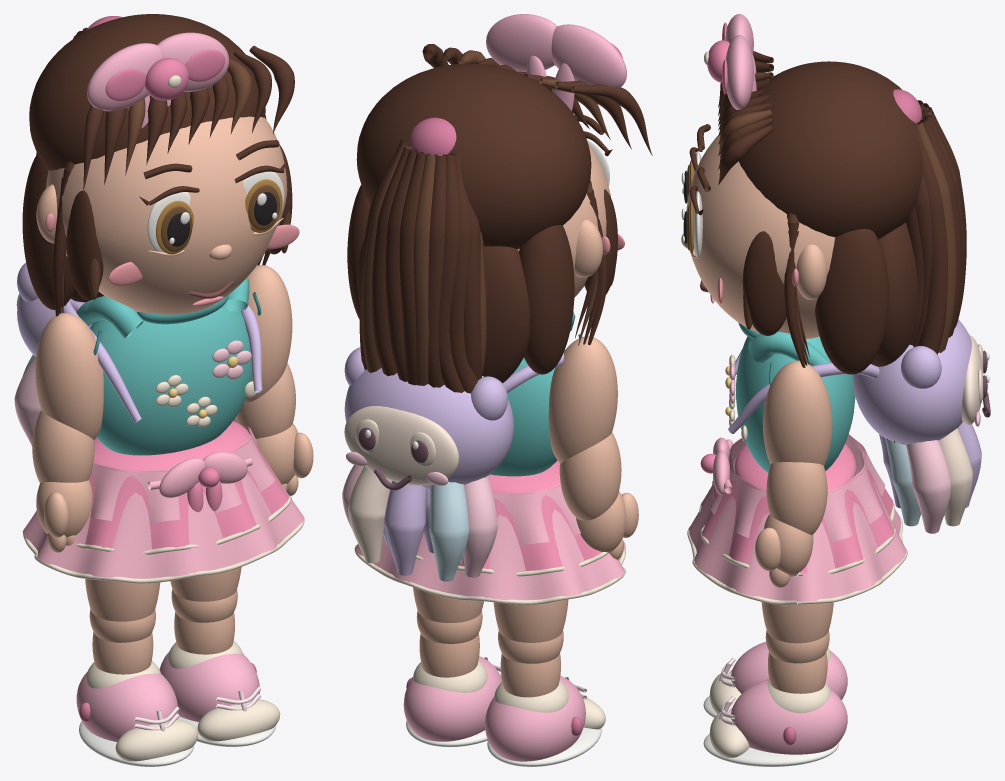
The model's file is hanna-v3.glb.
3 views of the same model, side by side, from view 1: azimuth 30°, elevation 25°; view 2: azimuth 150°, elevation 25°; view 3: azimuth 270°, elevation 25° (orthographic). The views are drawn at different scales.
Visible parts, largest first — view 1: face-sculpt, teal-cotton-tank, crown-back, skirt-layer-under, bare-shoulder-arm--1, skirt-layer-middle, high-top-sneaker-upper--1, high-top-sneaker-upper-1, skirt-layer-top, bare-shoulder-arm-1, bare-forearm--1, hair-left-volume (+55 smaller); view 2: crown-back, skirt-layer-under, plush-octopus-head, bare-shoulder-arm--1, hair-left-volume, hair-back-length, plush-ivory-face, high-top-sneaker-upper--1, high-top-sneaker-upper-1, teal-cotton-tank, bare-forearm--1, signature-pink-hair-bow--1 (+43 smaller); view 3: crown-back, face-sculpt, skirt-layer-under, hair-right-volume, plush-octopus-head, bare-shoulder-arm-1, high-top-sneaker-upper-1, teal-cotton-tank, skirt-layer-middle, hair-back-length, skirt-layer-top, bare-forearm-1 (+38 smaller).
Part boxes in pixels (box(x1,y1,x2,y2)): face-sculpt: box(45, 116, 287, 314); teal-cotton-tank: box(90, 304, 252, 455); crown-back: box(29, 14, 265, 170); skirt-layer-under: box(22, 417, 304, 578); bare-shoulder-arm--1: box(35, 313, 103, 439); skirt-layer-middle: box(85, 426, 288, 549); high-top-sneaker-upper--1: box(76, 672, 178, 741); high-top-sneaker-upper-1: box(159, 652, 259, 721); skirt-layer-top: box(91, 426, 275, 522); bare-shoulder-arm-1: box(244, 265, 292, 403); bare-forearm--1: box(32, 410, 94, 482); hair-left-volume: box(22, 154, 75, 309); crown-back: box(356, 63, 591, 249); skirt-layer-under: box(355, 484, 625, 600); plush-octopus-head: box(344, 368, 513, 490); bare-shoulder-arm--1: box(548, 336, 617, 463); hair-left-volume: box(519, 225, 574, 374); hair-back-length: box(357, 239, 529, 383); plush-ivory-face: box(344, 406, 458, 485); high-top-sneaker-upper--1: box(485, 676, 585, 761); high-top-sneaker-upper-1: box(403, 656, 501, 741); teal-cotton-tank: box(490, 349, 565, 476); bare-forearm--1: box(559, 432, 621, 520); signature-pink-hair-bow--1: box(551, 24, 626, 88); crown-back: box(739, 61, 922, 239); face-sculpt: box(686, 135, 835, 338); skirt-layer-under: box(689, 436, 906, 601); hair-right-volume: box(815, 229, 889, 374); plush-octopus-head: box(853, 319, 971, 445); bare-shoulder-arm-1: box(763, 360, 832, 466); high-top-sneaker-upper-1: box(731, 679, 847, 754); teal-cotton-tank: box(736, 336, 855, 472); skirt-layer-middle: box(701, 435, 894, 573); hair-back-length: box(870, 222, 917, 366); skirt-layer-top: box(710, 434, 884, 542); bare-forearm-1: box(766, 462, 827, 534).
Size of the model in its own units: 0.842 by 2.2 by 0.89.
